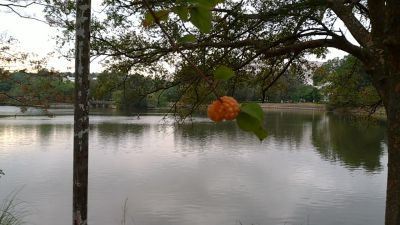eggs: (206, 95, 242, 122)
